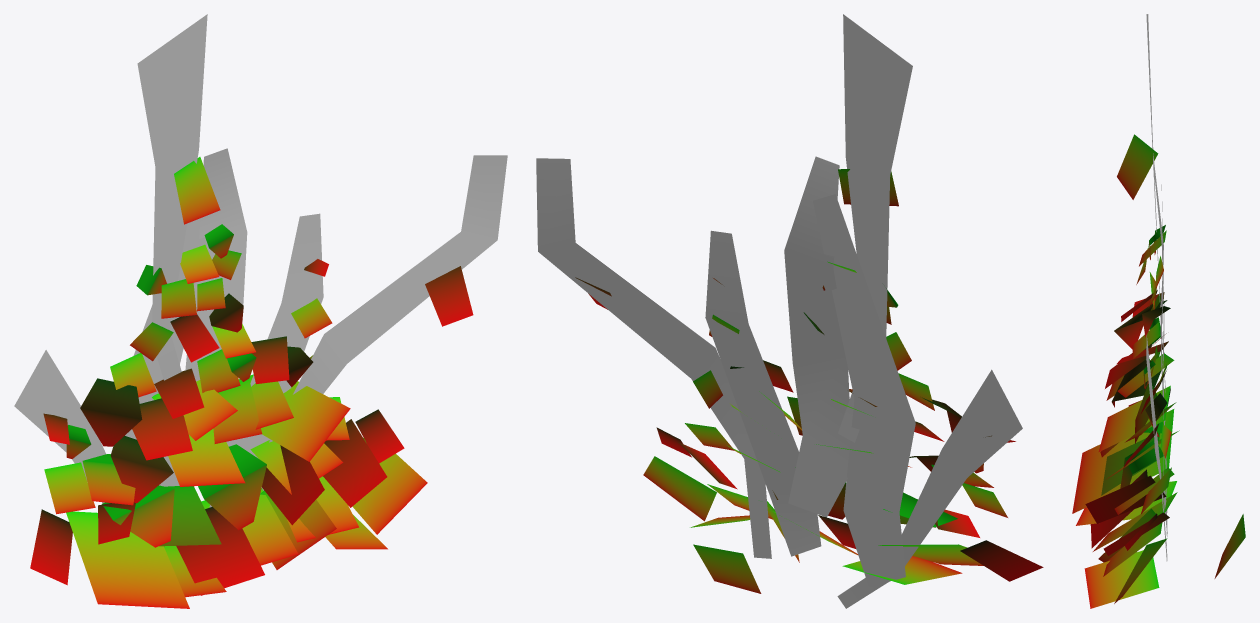
Rendered from Var7_LOD3.fbx.
The picture shows the model from 3 angles, left to right: view 1: azimuth 30°, elevation 25°; view 2: azimuth 150°, elevation 25°; view 3: azimuth 270°, elevation 25°; orthographic projection. The views are drawn at different scales.
Parts seen in each view (by area): view 1: _1f6c_Var7_LOD3; view 2: _1f6c_Var7_LOD3; view 3: _1f6c_Var7_LOD3.
Boxes of the visible parts, left/top/right/bottom form: _1f6c_Var7_LOD3: left=14, top=14, right=507, bottom=608; _1f6c_Var7_LOD3: left=536, top=14, right=1043, bottom=608; _1f6c_Var7_LOD3: left=1072, top=14, right=1245, bottom=608.
Bounding box in the file's own units: 48.07 × 53.8 × 15.6.
